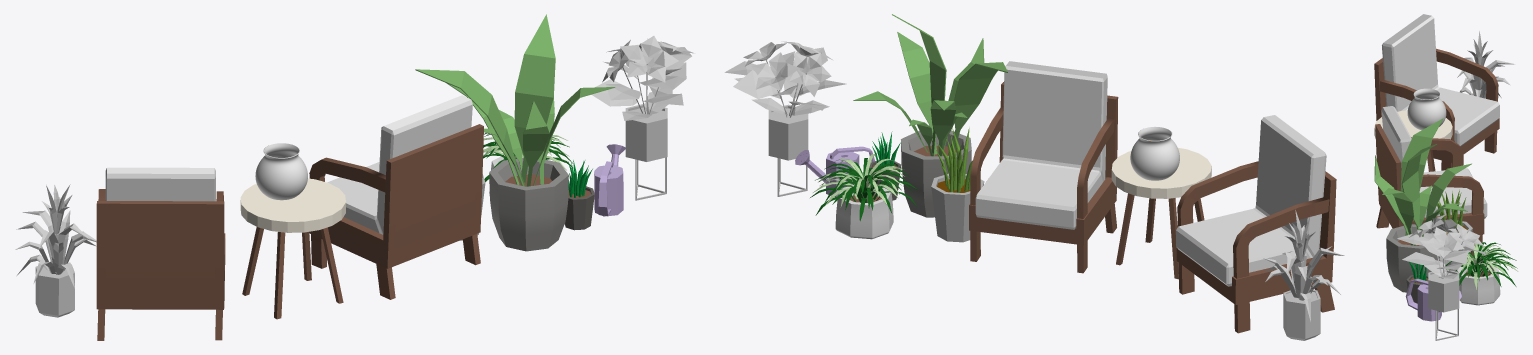
Rendered from 金魚缸.fbx.
The picture shows the model from 3 angles, left to right: view 1: azimuth 30°, elevation 25°; view 2: azimuth 150°, elevation 25°; view 3: azimuth 270°, elevation 25°; orthographic projection. The views are drawn at different scales.
Parts seen in each view (by area): view 1: Patio_Chair2, Patio_Chair, Patio_Flower1, _01_16, Patio_Table, _02_14, Sphere.005, Patio_WateringCan, Patio_Flower3, Patio_Flower2; view 2: Patio_Chair2, Patio_Chair, Patio_Flower1, _01_16, Patio_Flower2, Patio_Table, _02_14, Patio_Flower, Sphere.005, Patio_WateringCan, Patio_Flower3; view 3: Patio_Chair, Patio_Flower1, Patio_Chair2, _01_16, Patio_Flower2, Sphere.005, _02_14, Patio_WateringCan, Patio_Table, Patio_Flower, Patio_Flower3.
Boxes of the visible parts, x1,y1,x2,y2 form: Patio_Chair2: [309, 95, 483, 299]; Patio_Chair: [96, 167, 225, 340]; Patio_Flower1: [415, 14, 615, 251]; _01_16: [591, 36, 694, 200]; Patio_Table: [240, 178, 345, 319]; _02_14: [15, 184, 96, 317]; Sphere.005: [255, 143, 307, 200]; Patio_WateringCan: [594, 144, 625, 216]; Patio_Flower3: [564, 160, 594, 230]; Patio_Flower2: [483, 133, 573, 193]; Patio_Chair2: [969, 61, 1118, 273]; Patio_Chair: [1176, 115, 1336, 333]; Patio_Flower1: [853, 14, 1007, 217]; _01_16: [724, 41, 846, 196]; Patio_Flower2: [810, 154, 917, 239]; Patio_Table: [1111, 148, 1211, 279]; _02_14: [1263, 210, 1344, 340]; Patio_Flower: [931, 128, 984, 242]; Sphere.005: [1130, 126, 1179, 180]; Patio_WateringCan: [795, 146, 874, 196]; Patio_Flower3: [869, 131, 901, 200]; Patio_Chair: [1374, 14, 1499, 170]; Patio_Flower1: [1374, 118, 1471, 292]; Patio_Chair2: [1375, 106, 1487, 256]; _01_16: [1397, 214, 1485, 340]; Patio_Flower2: [1445, 242, 1518, 305]; Sphere.005: [1407, 88, 1446, 130]; _02_14: [1457, 31, 1515, 98]; Patio_WateringCan: [1405, 278, 1461, 321]; Patio_Table: [1374, 110, 1452, 171]; Patio_Flower: [1437, 189, 1472, 271]; Patio_Flower3: [1406, 261, 1428, 303].
Size of the model in its own units: 2964 by 767 by 915.
